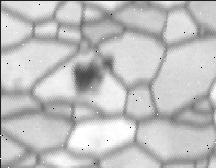good_void: (70, 55, 112, 96)
